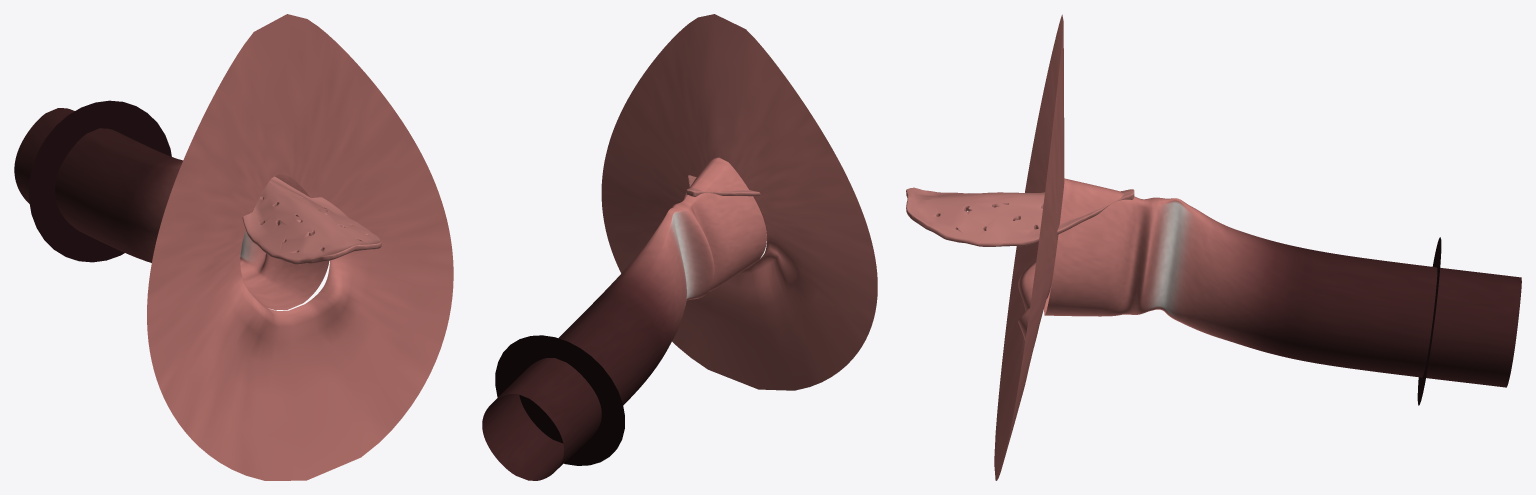
Rendered from x-throat.cac5c5f4.glb.
3 renders of one model, left to right at view 1: azimuth 30°, elevation 25°; view 2: azimuth 150°, elevation 25°; view 3: azimuth 270°, elevation 25°, orthographic. The views are drawn at different scales.
Visible parts, largest first — view 1: Throat, Below the vocal cords, Windpipe, Epiglottis, Upper voice box, False vocal cords; view 2: Throat, Below the vocal cords, Windpipe, Upper voice box, Laryngeal ventricle, Vocal cords, False vocal cords, Epiglottis; view 3: Below the vocal cords, Throat, Upper voice box, Epiglottis, Vocal cords, False vocal cords, Laryngeal ventricle, Windpipe.
Boxes of the visible parts, bbox=[...] form: Throat: bbox=[147, 14, 453, 480]; Below the vocal cords: bbox=[14, 108, 182, 262]; Windpipe: bbox=[29, 100, 171, 262]; Epiglottis: bbox=[242, 176, 381, 264]; Upper voice box: bbox=[246, 173, 329, 310]; False vocal cords: bbox=[243, 253, 277, 286]; Throat: bbox=[601, 14, 877, 390]; Below the vocal cords: bbox=[482, 221, 686, 480]; Windpipe: bbox=[495, 335, 624, 465]; Upper voice box: bbox=[680, 157, 766, 289]; Laryngeal ventricle: bbox=[671, 203, 714, 299]; Vocal cords: bbox=[662, 207, 696, 300]; False vocal cords: bbox=[679, 194, 720, 291]; Epiglottis: bbox=[686, 175, 760, 196]; Below the vocal cords: bbox=[1173, 206, 1521, 387]; Throat: bbox=[994, 14, 1064, 480]; Upper voice box: bbox=[1044, 178, 1131, 316]; Epiglottis: bbox=[906, 187, 1134, 246]; Vocal cords: bbox=[1149, 198, 1190, 318]; False vocal cords: bbox=[1114, 196, 1151, 315]; Laryngeal ventricle: bbox=[1135, 197, 1165, 314]; Windpipe: bbox=[1417, 237, 1441, 405].
Size of the model in its own units: 0.1758 by 0.241 by 0.3.
